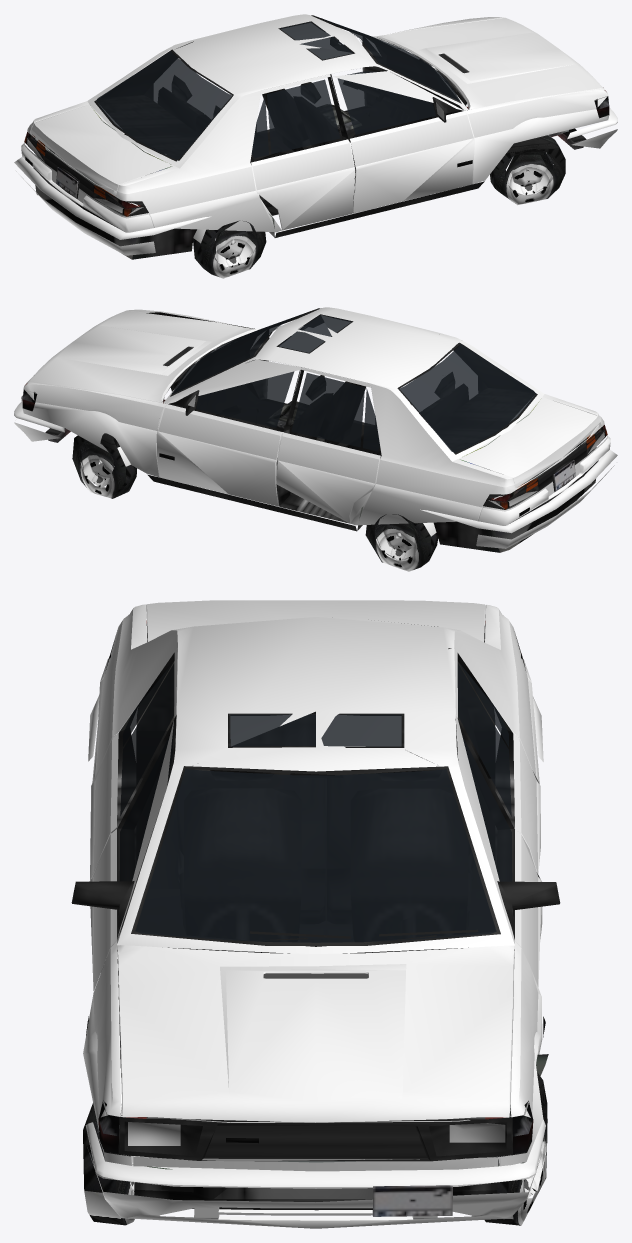
The model's file is car_compact.glb.
The picture shows the model from 3 angles, top to bottom: view 1: azimuth 30°, elevation 25°; view 2: azimuth 150°, elevation 25°; view 3: azimuth 270°, elevation 25°; orthographic projection. The views are drawn at different scales.
Visible parts, largest first — view 1: paint, body, glass; view 2: paint, body, glass; view 3: paint, body, glass.
Boxes of the visible parts, x1,y1,x2,y2 form: paint: [14, 14, 617, 255]; body: [24, 15, 609, 278]; glass: [96, 18, 460, 159]; paint: [14, 307, 617, 548]; body: [21, 308, 607, 571]; glass: [171, 311, 535, 452]; paint: [83, 600, 545, 1228]; body: [71, 620, 560, 1225]; glass: [119, 660, 512, 942].
Bounding box in the file's own units: 4.4 × 1.34 × 1.79.
Materials: 2 (1 with a texture image).
